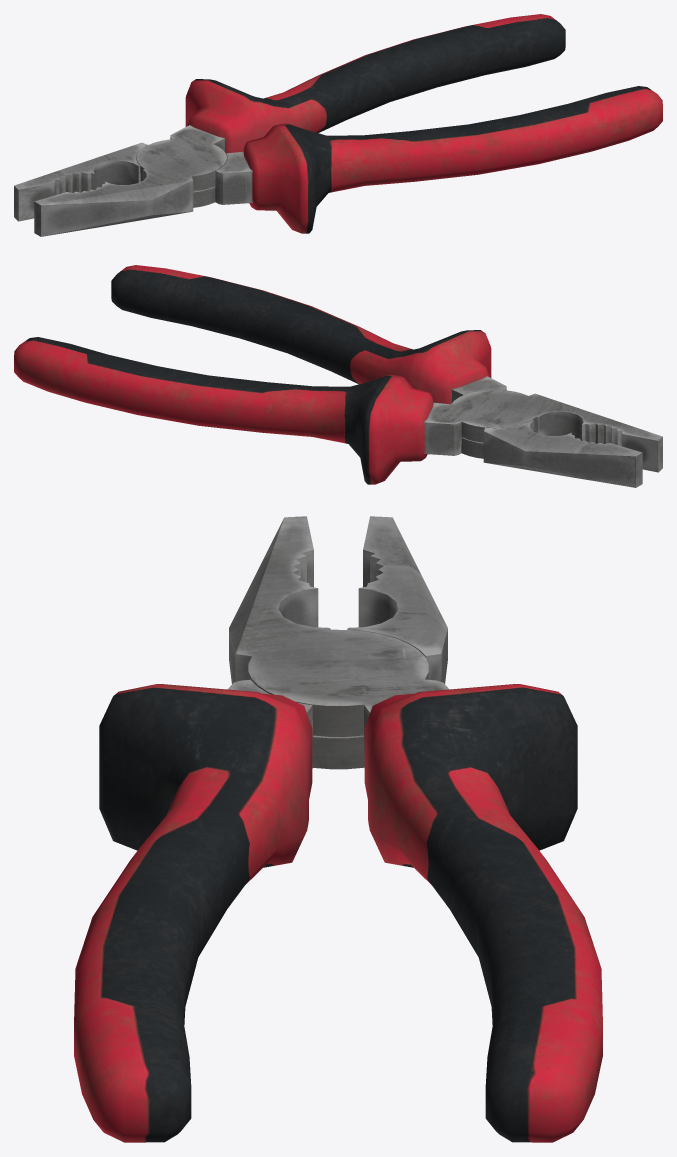
The model's file is pliers.glb.
The picture shows the model from 3 angles, top to bottom: view 1: azimuth 30°, elevation 25°; view 2: azimuth 150°, elevation 25°; view 3: azimuth 270°, elevation 25°; orthographic projection. The views are drawn at different scales.
Parts seen in each view (by area): view 1: pliers, pliers.001; view 2: pliers.001, pliers; view 3: pliers.001, pliers.
Boxes of the visible parts, x1,y1,x2,y2 form: pliers: (14, 86, 662, 233); pliers.001: (34, 14, 565, 236); pliers.001: (14, 337, 662, 484); pliers: (111, 265, 642, 487); pliers.001: (229, 516, 602, 1142); pliers: (74, 516, 447, 1142).
Size of the model in its own units: 0.4825 by 0.0661 by 0.1897.
Materials: 1 (1 with a texture image).
